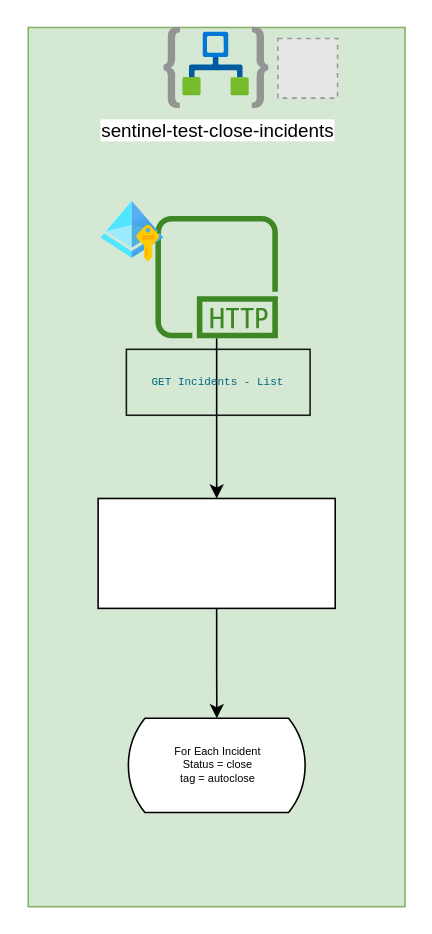
Some shapes in this 432 by 934 pixel diagram are drawn without their labels. Grey dashed boxes stand in for pictures. The box of each missing label's shape, as (x1, y1, x2, y2) in pixels:
Extract Incident Where Sevarity = Info Create Time > 30 days Status = Open: (97, 497, 335, 608)
Managed Identity: (100, 199, 163, 262)
